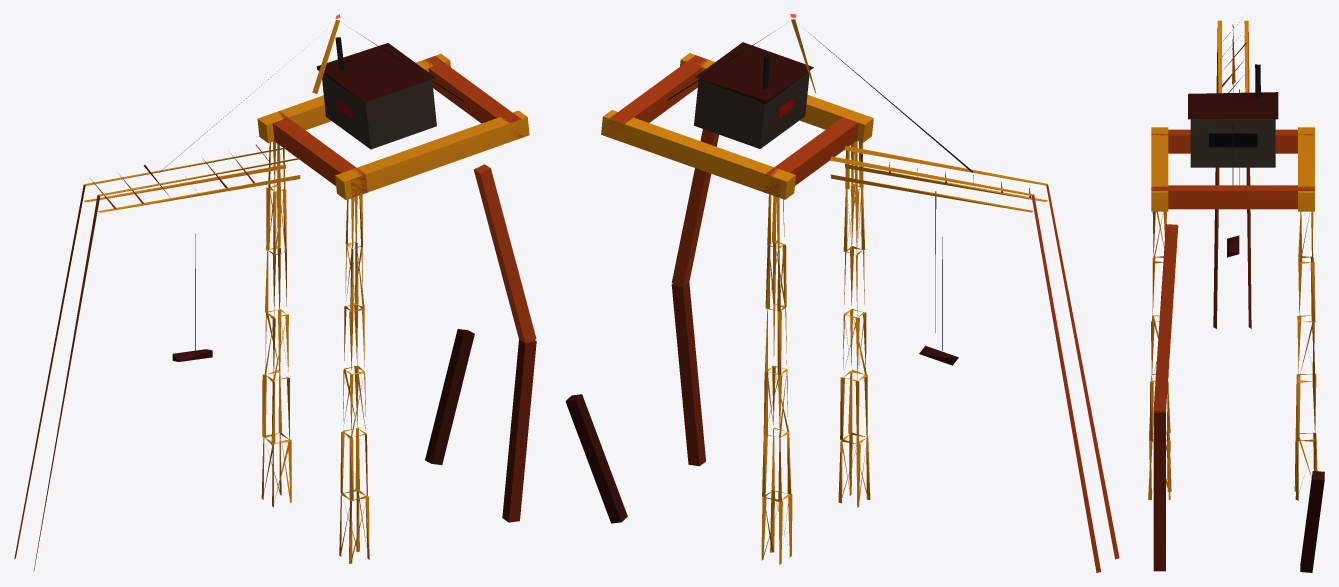
File: tb_port_crane.three-web-toon.lod25.glb
3 renders of one model, left to right at view 1: azimuth 30°, elevation 25°; view 2: azimuth 150°, elevation 25°; view 3: azimuth 270°, elevation 25°, orthographic. The views are drawn at different scales.
Visible parts, largest first — view 1: crane_body_lod; view 2: crane_body_lod; view 3: crane_body_lod.
Part boxes in pixels (bbox=[...]): crane_body_lod: bbox=[14, 14, 536, 571]; crane_body_lod: bbox=[565, 14, 1119, 572]; crane_body_lod: bbox=[1148, 19, 1324, 572].
Bounding box in the file's own units: 44.17 × 43.66 × 14.47.
